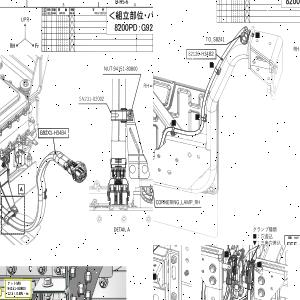PartNumber: (78, 94, 105, 102), (113, 64, 138, 72), (39, 130, 67, 136), (188, 51, 214, 57), (7, 285, 26, 291)
